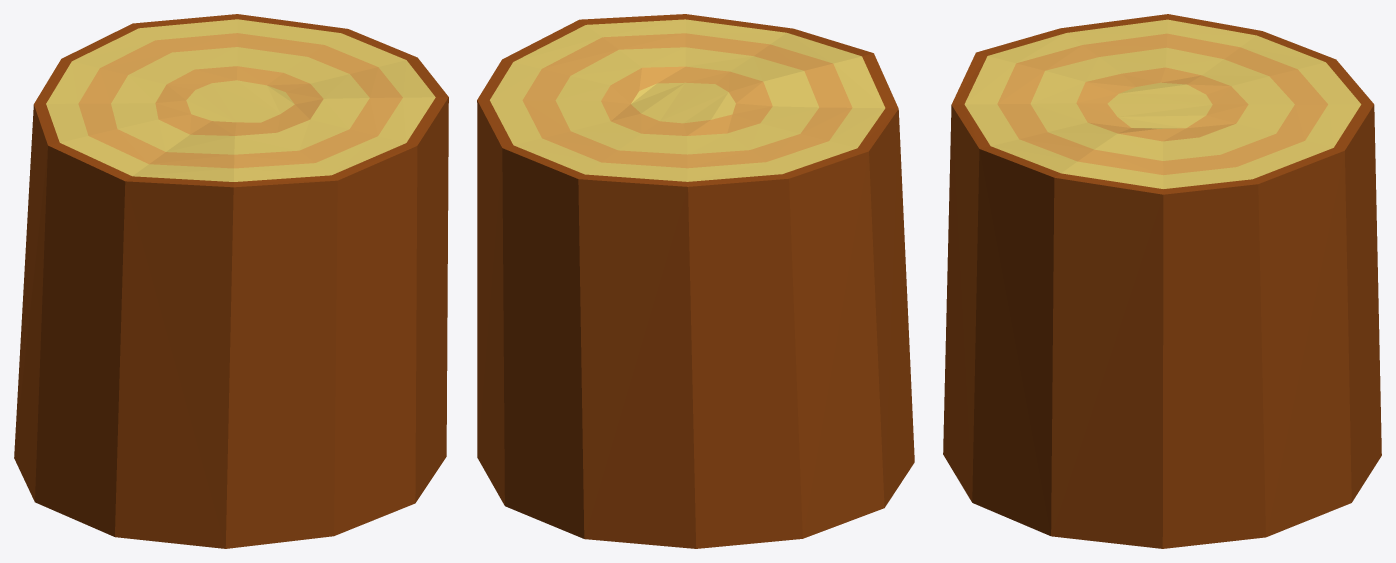
The model's file is ChoppingLog.fbx.
The picture shows the model from 3 angles, left to right: view 1: azimuth 30°, elevation 25°; view 2: azimuth 150°, elevation 25°; view 3: azimuth 270°, elevation 25°; orthographic projection.
Parts seen in each view (by area): view 1: ChoppingLog; view 2: ChoppingLog; view 3: ChoppingLog.
Boxes of the visible parts, bbox=[...] form: ChoppingLog: bbox=[14, 14, 448, 548]; ChoppingLog: bbox=[477, 14, 914, 548]; ChoppingLog: bbox=[943, 14, 1381, 548].
Size of the model in its own units: 126 by 113 by 125.
